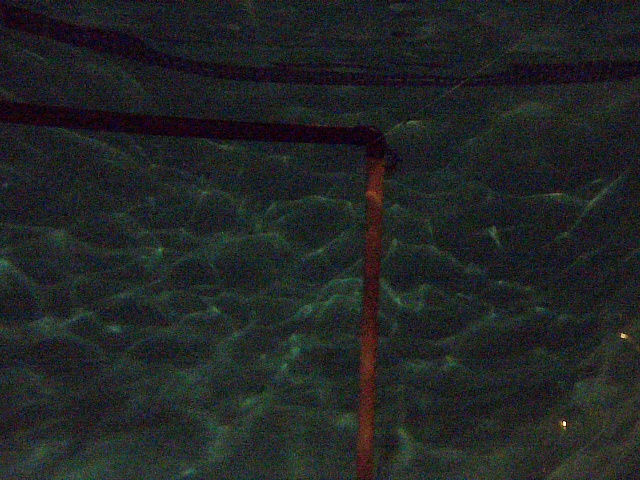Gate: (352, 150, 388, 480)
